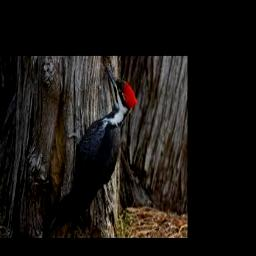Woodpecker: (46, 64, 138, 236)
